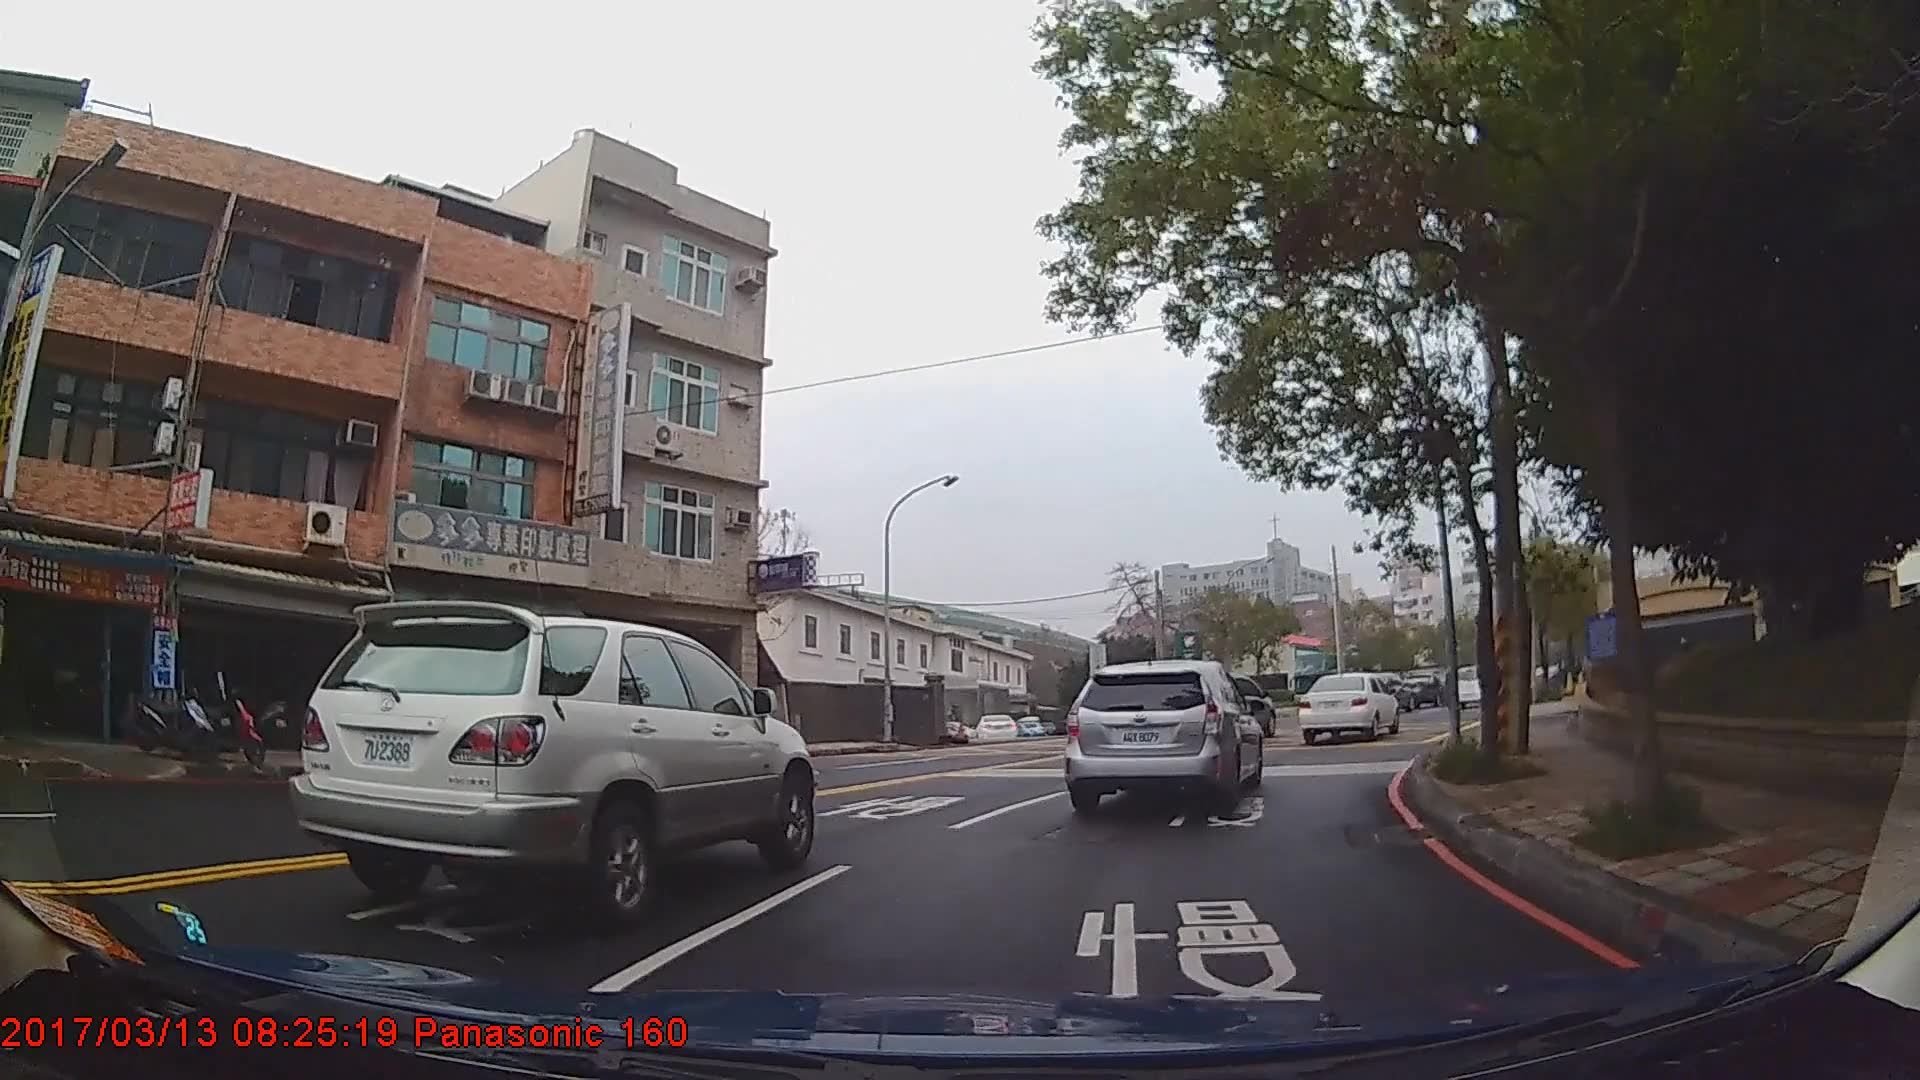vehicle: (284, 600, 818, 935), (1059, 657, 1261, 808), (1296, 670, 1400, 740), (973, 713, 1018, 742)
